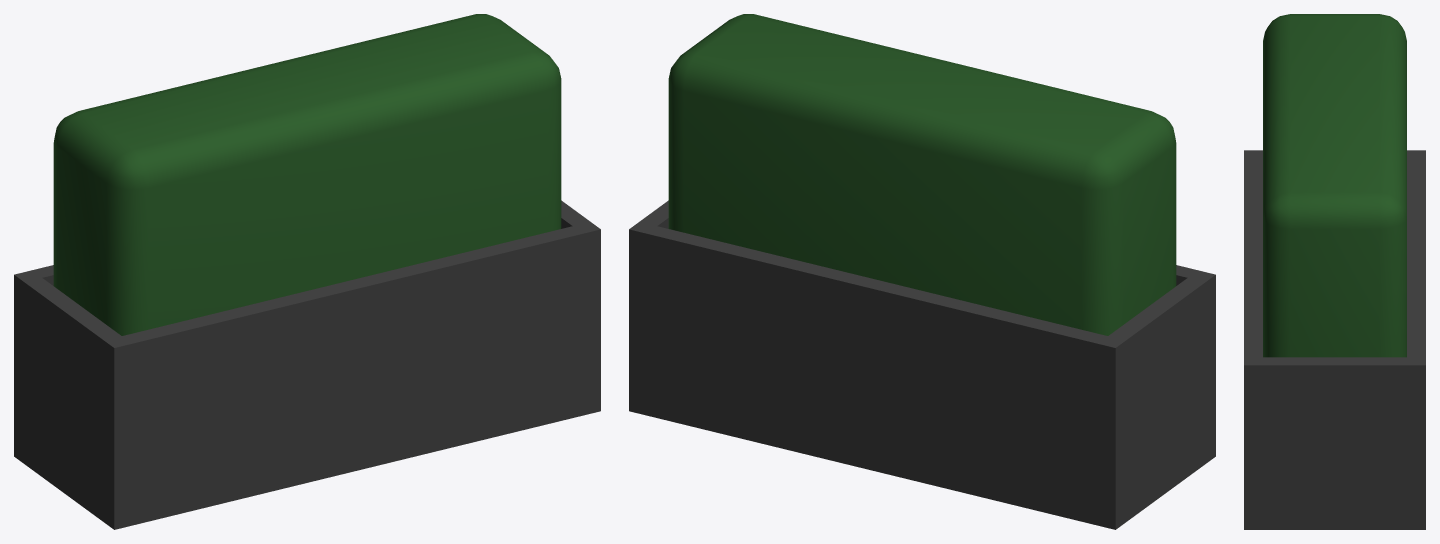
The model's file is object_B1_GF_plant.glb.
The picture shows the model from 3 angles, left to right: view 1: azimuth 30°, elevation 25°; view 2: azimuth 150°, elevation 25°; view 3: azimuth 270°, elevation 25°; orthographic projection. The views are drawn at different scales.
Parts seen in each view (by area): view 1: B1 GF plant; view 2: B1 GF plant; view 3: B1 GF plant.
Boxes of the visible parts, <box> form: B1 GF plant: <box>14,14,600,529</box>; B1 GF plant: <box>629,14,1215,529</box>; B1 GF plant: <box>1244,14,1425,529</box>.
Size of the model in its own units: 1.4 by 0.9654 by 0.5.
